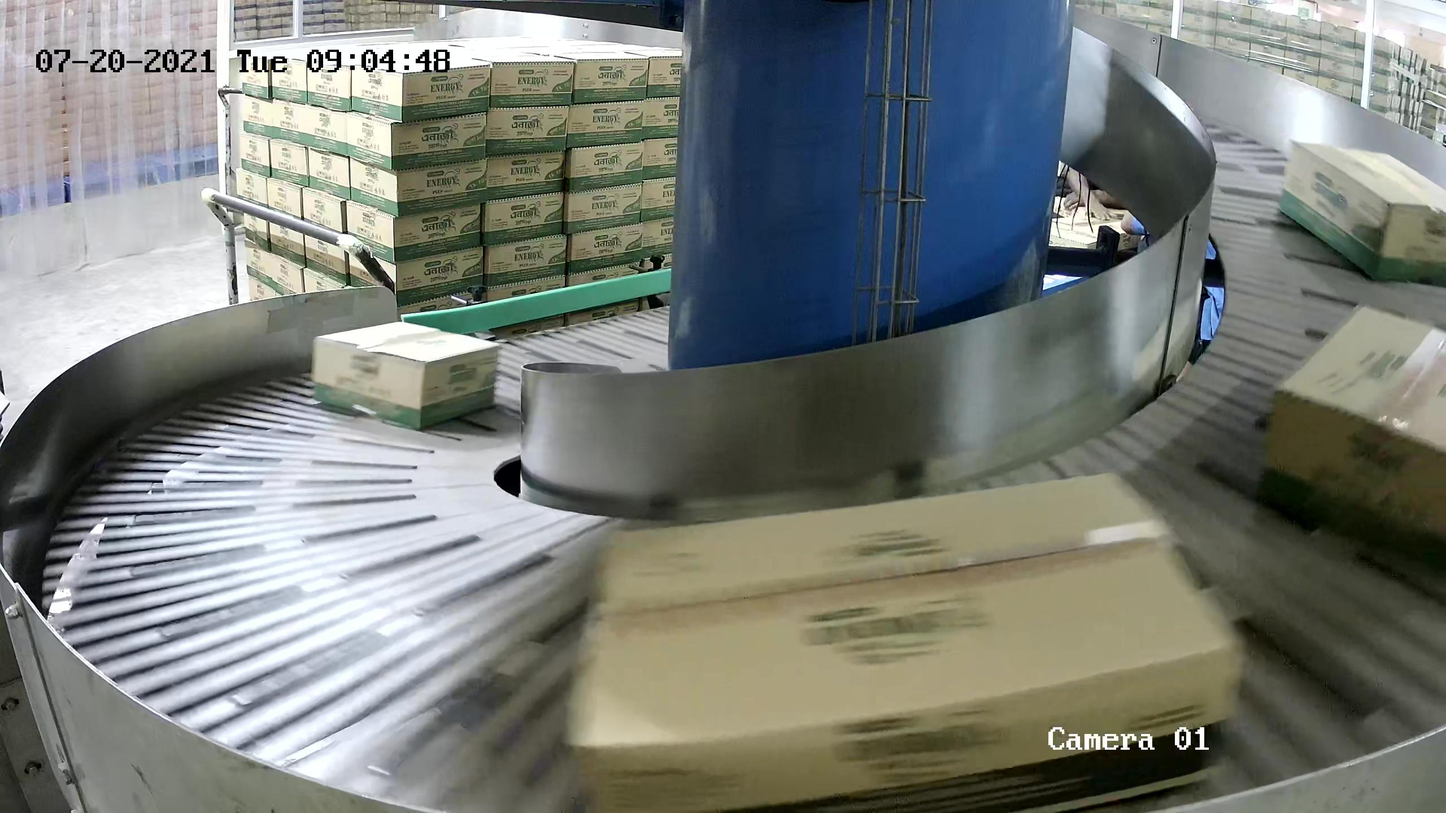Box: (560, 469, 1245, 813), (1257, 300, 1446, 577), (1276, 137, 1446, 280), (310, 320, 500, 431)
